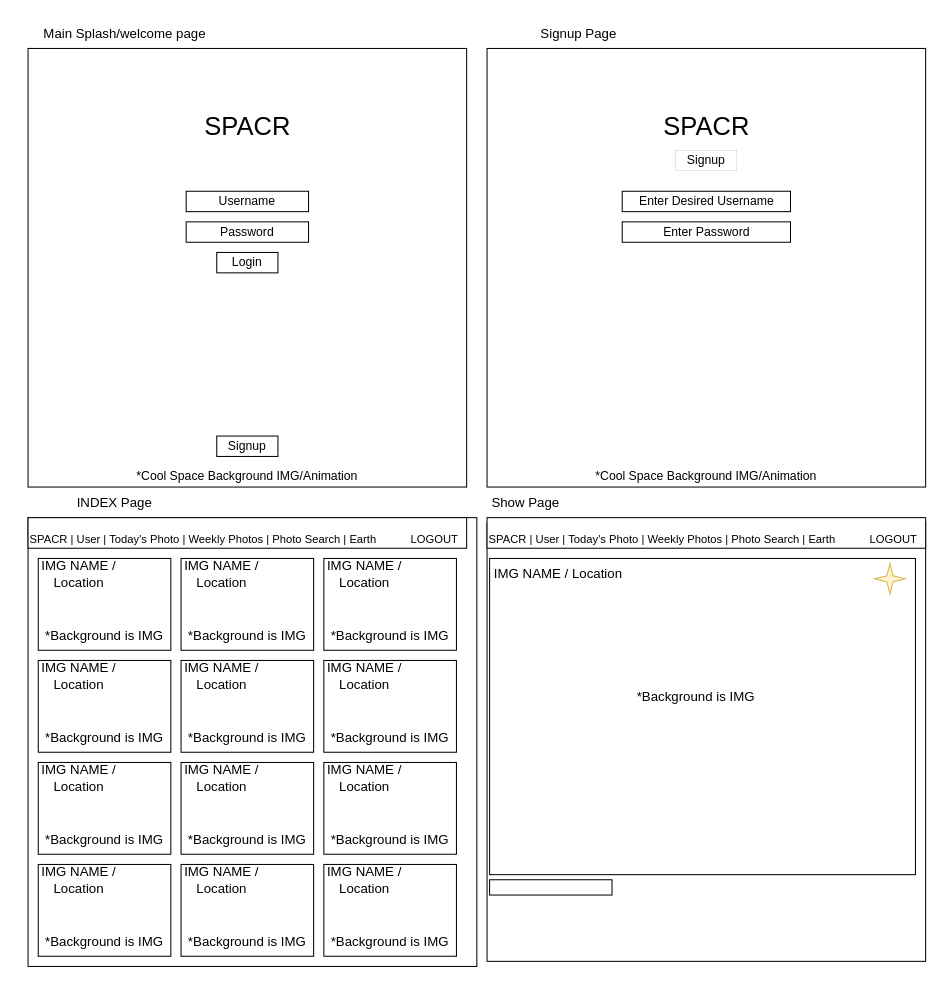
The diagram is 944 pixels wide and 984 high, and some of its shapes have lost their labels. Here are the shapes that lost their labels. From the top down, the centre of each, then its label:
the point at 889,578: Favorite
the point at 550,887: Comment
